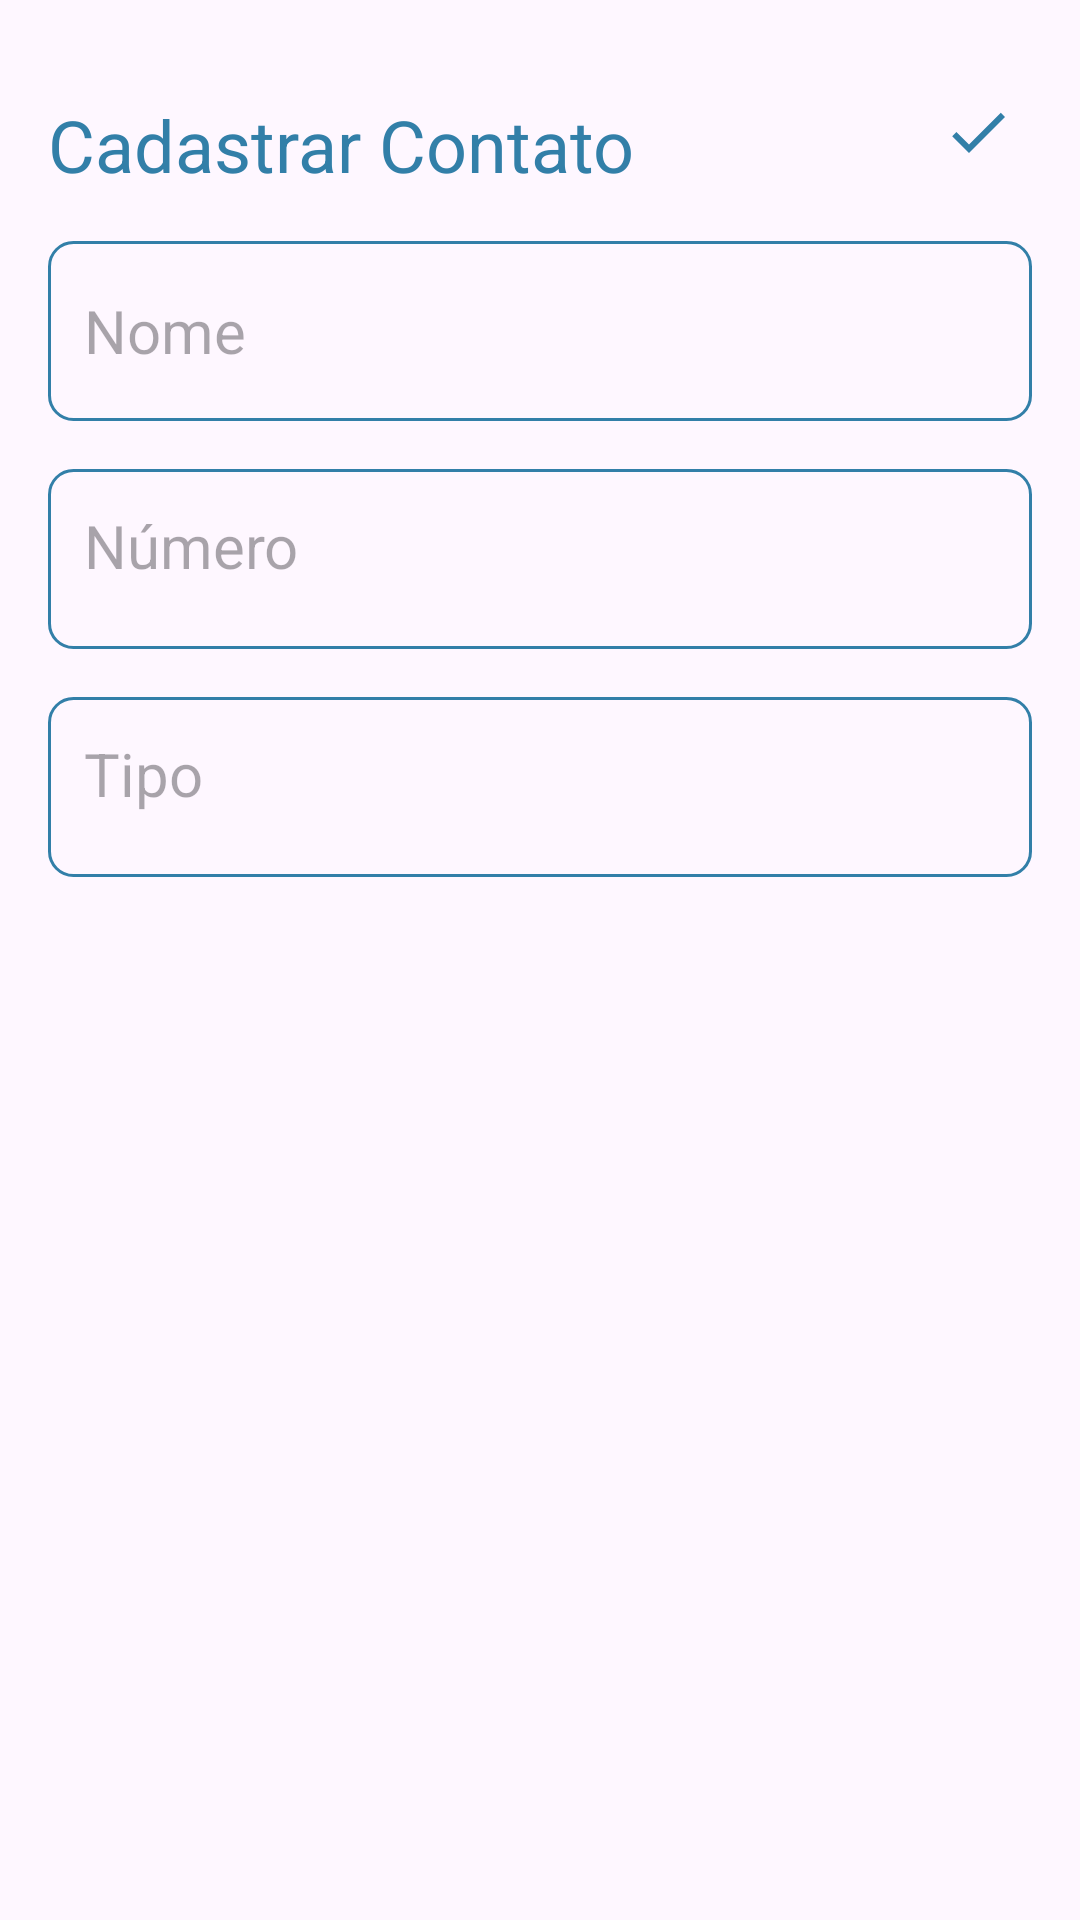

Icon click points for this 1080w x 1920h phone screenshot, format (x,y):
done: (978,133)
